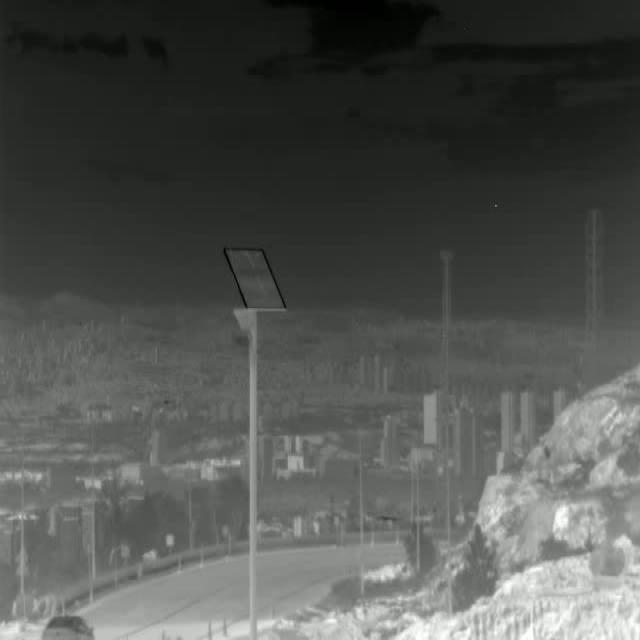Car: (41, 614, 92, 640)
